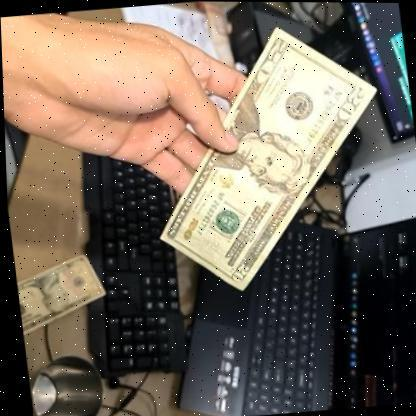dollar_front: (132, 15, 397, 298)
